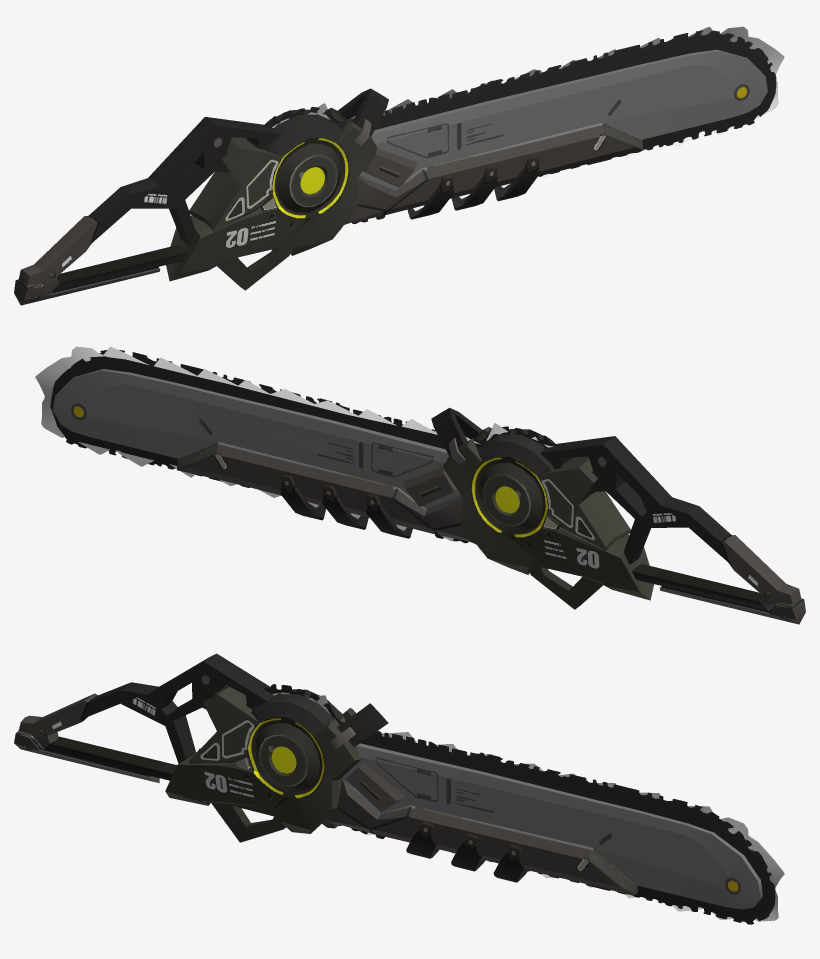
Rendered from E2SawMd050011 #481383.fbx.
The picture shows the model from 3 angles, top to bottom: view 1: azimuth 30°, elevation 25°; view 2: azimuth 150°, elevation 25°; view 3: azimuth 330°, elevation 25°; orthographic projection.
Parts seen in each view (by area): view 1: E2SawMd0500111, E2SawMd0500112, FxWeaponSaw61Wuqi01; view 2: E2SawMd0500111, E2SawMd0500112, FxWeaponSaw61Wuqi01; view 3: E2SawMd0500111, E2SawMd0500112, FxWeaponSaw61Wuqi01.
Boxes of the visible parts, bbox=[...] form: E2SawMd0500111: bbox=[14, 49, 767, 305]; E2SawMd0500112: bbox=[264, 30, 776, 224]; FxWeaponSaw61Wuqi01: bbox=[272, 26, 784, 221]; E2SawMd0500111: bbox=[53, 369, 805, 624]; E2SawMd0500112: bbox=[50, 350, 555, 543]; FxWeaponSaw61Wuqi01: bbox=[35, 346, 553, 541]; E2SawMd0500111: bbox=[14, 653, 762, 909]; E2SawMd0500112: bbox=[264, 684, 775, 924]; FxWeaponSaw61Wuqi01: bbox=[272, 692, 784, 921].
Bounding box in the file's own units: 1.05 × 0.2394 × 0.0706.
3 materials, 3 textured.
